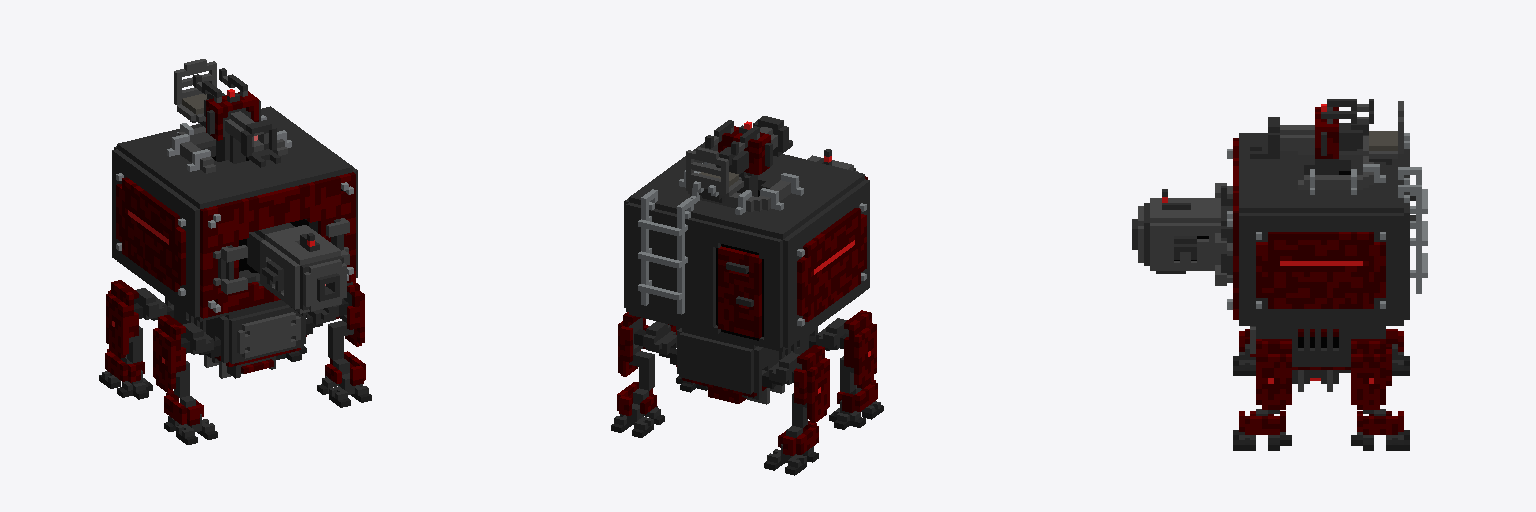
The picture shows the model from 3 angles: view 1: azimuth 30°, elevation 25°; view 2: azimuth 150°, elevation 25°; view 3: azimuth 270°, elevation 25°; orthographic projection.
Visible parts, largest first — view 1: object 1; view 2: object 1; view 3: object 1.
Part boxes in pixels (bbox=[...]): object 1: bbox=[99, 59, 371, 444]; object 1: bbox=[611, 116, 883, 475]; object 1: bbox=[1132, 99, 1427, 450].
Bounding box in the file's own units: 3.8 × 5.6 × 5.
1 materials, 1 textured.